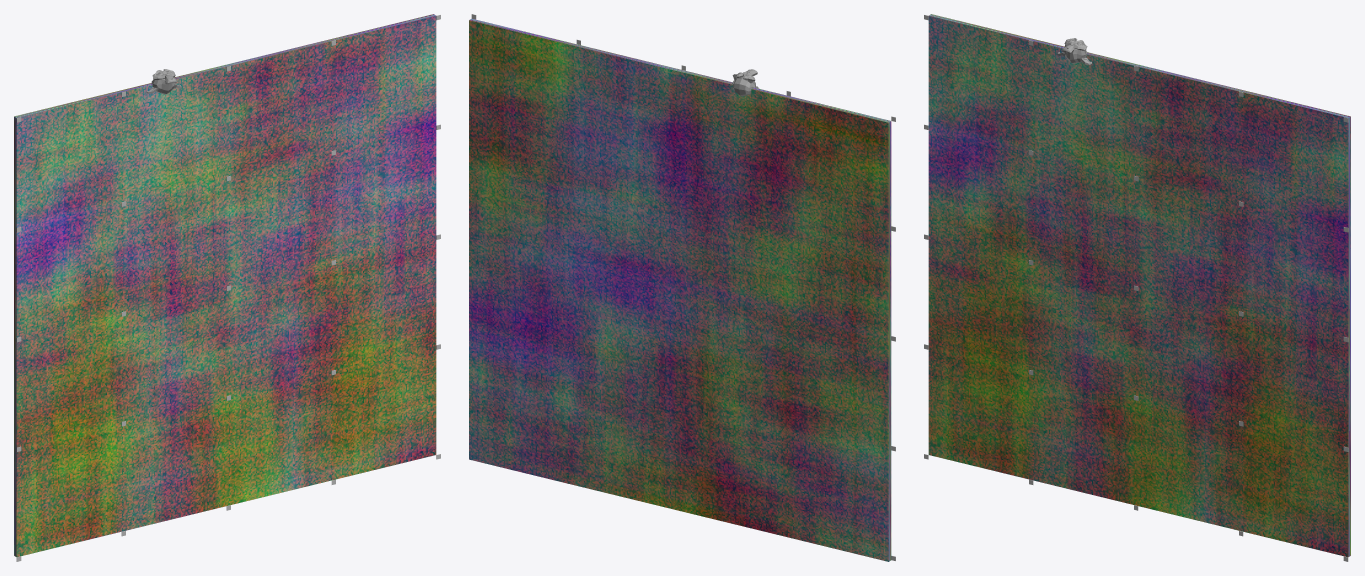
3 views of the same model, side by side, from view 1: azimuth 30°, elevation 25°; view 2: azimuth 150°, elevation 25°; view 3: azimuth 330°, elevation 25° (orthographic).
Parts seen in each view (by area): view 1: noiseCube_Cube.025, dummy1_Suzanne; view 2: noiseCube_Cube.025; view 3: noiseCube_Cube.025, dummy1_Suzanne.
Part boxes in pixels (<box>): noiseCube_Cube.025: <box>14,14,436,557</box>; dummy1_Suzanne: <box>146,69,181,94</box>; noiseCube_Cube.025: <box>469,18,891,561</box>; noiseCube_Cube.025: <box>928,14,1350,557</box>; dummy1_Suzanne: <box>1057,38,1091,64</box>.
Size of the model in its own units: 101 by 103 by 5.91.
